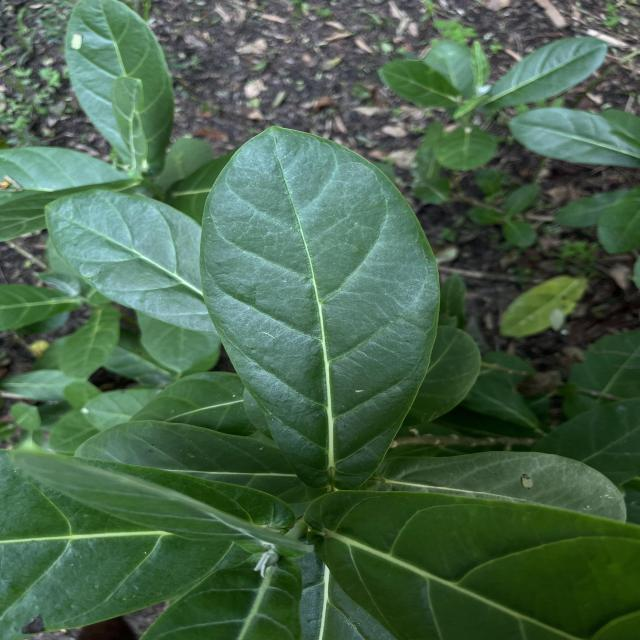Calotropis gigantea: (193, 120, 452, 488), (38, 184, 226, 344), (62, 0, 177, 163), (489, 34, 609, 108), (503, 105, 640, 169), (376, 58, 462, 112)
